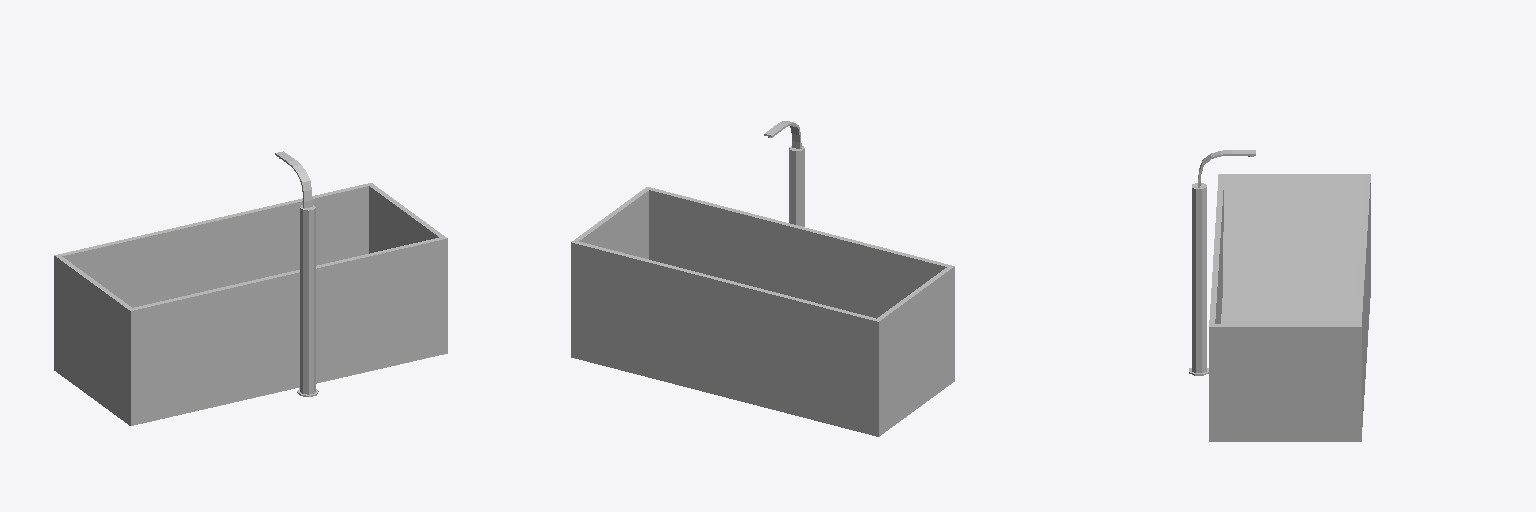
Rendered from 872514_VASCA.obj.
3 views of the same model, side by side, from view 1: azimuth 30°, elevation 25°; view 2: azimuth 150°, elevation 25°; view 3: azimuth 270°, elevation 25° (orthographic).
Parts seen in each view (by area): view 1: vasca001; view 2: vasca001; view 3: vasca001.
Part boxes in pixels (x1,y1,x2,y2): vasca001: (54, 151, 447, 425); vasca001: (571, 121, 954, 436); vasca001: (1189, 150, 1370, 441).
Size of the model in its own units: 139 by 93.78 by 70.37.